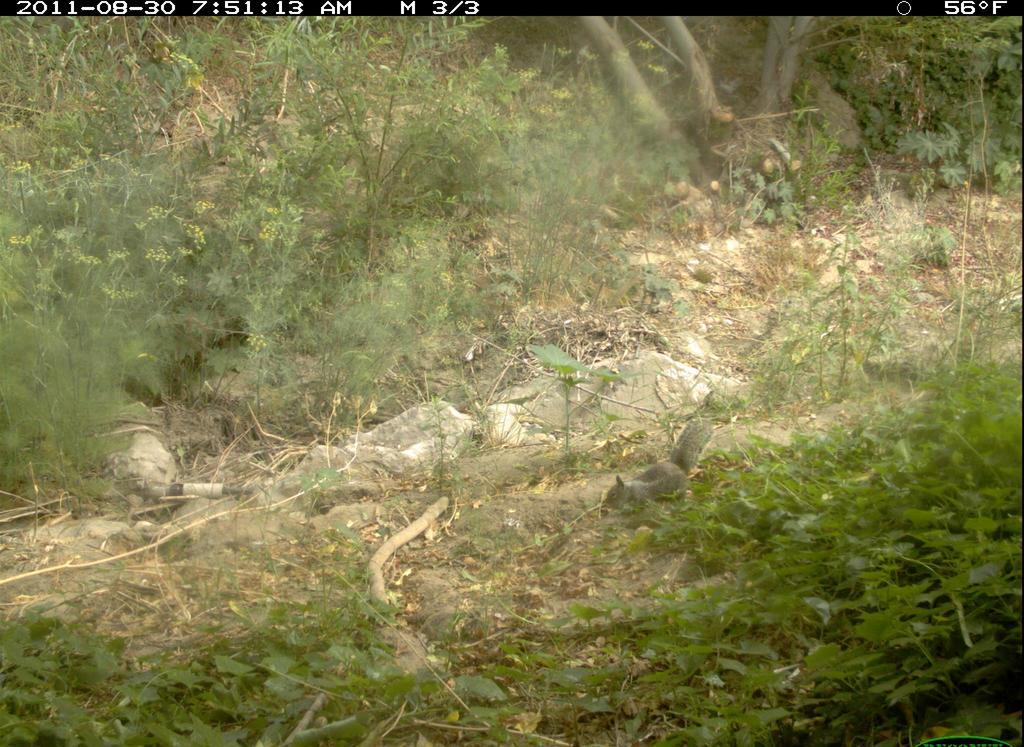squirrel: (574, 404, 753, 551)
